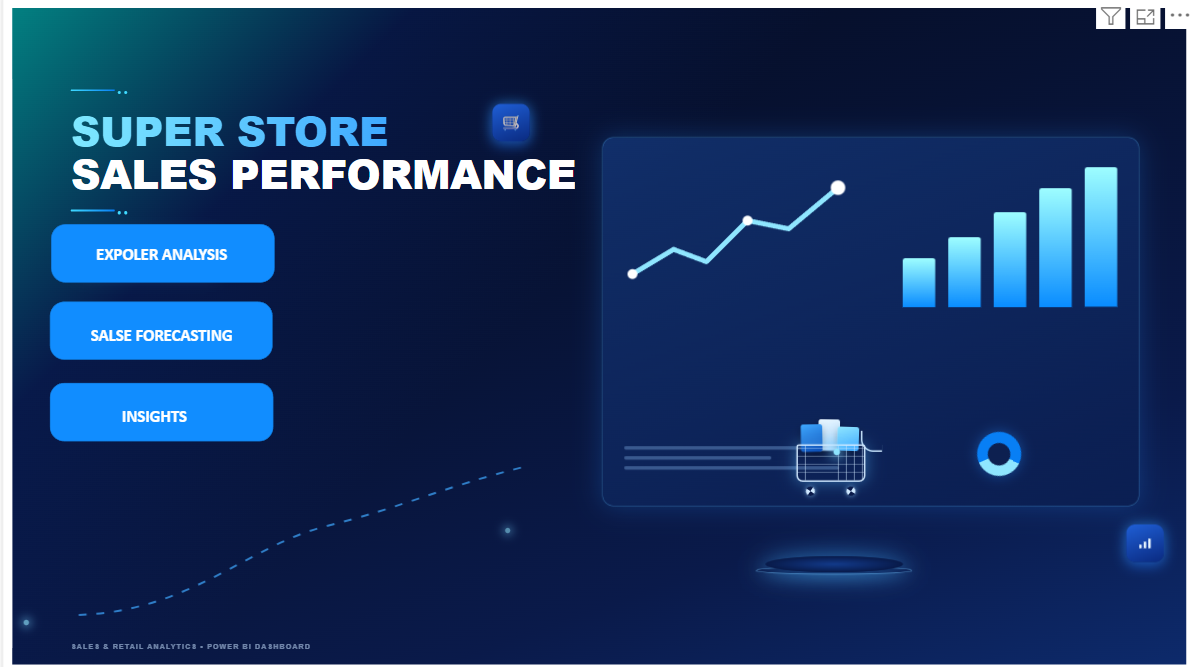

This screenshot's page, from the dashboard's own definition file:
{"tool":"powerbi","page":{"name":"Cover Page","canvas":[1920,1080],"ordinal":0},"visuals":[{"type":"htmlContent443BE3AD55E043BF878BED274D3A6855","fields":{"content":["SuperStore_Sales_Dataset (1).Animated Cover Page"]},"box":[10,0,1910,1080],"z":0},{"type":"shape","box":[88,360,358,94],"z":1000},{"type":"textbox","box":[100,374,330,58],"z":2000},{"type":"shape","box":[86.7,483.3,356.7,93.3],"z":3000},{"type":"textbox","box":[100,483.3,330,93.3],"z":4000},{"type":"shape","box":[86.7,613.3,358,94],"z":4001},{"type":"textbox","box":[100,613.3,306.7,93.3],"z":4002}]}

Visuals, with their boxes in screenshot pixels (x1, y1, x2, y2):
htmlContent443BE3AD55E043BF878BED274D3A6855 - SuperStore_Sales_Dataset (1).Animated Cover Page: 15 3 1178 661
shape: 63 222 281 280
textbox: 70 231 271 266
shape: 62 297 279 354
textbox: 70 297 271 354
shape: 62 377 280 434
textbox: 70 377 257 433
